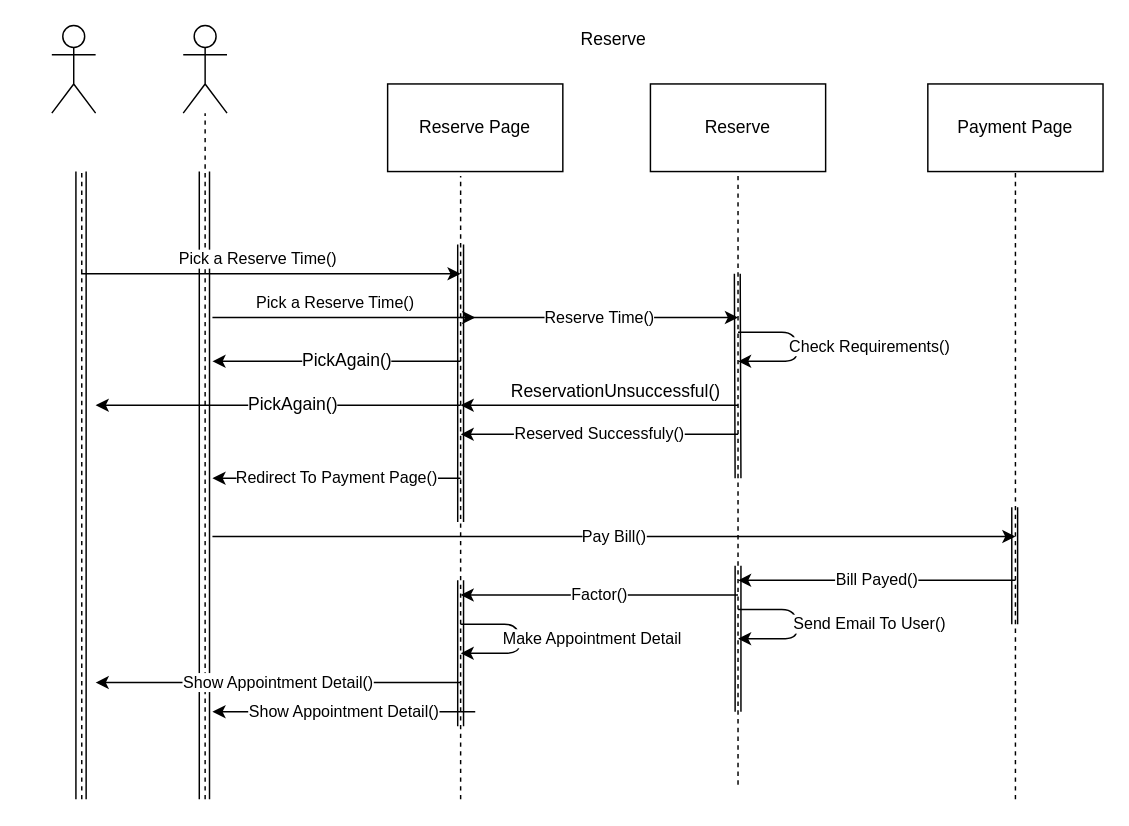
Some shapes in this 1129 by 826 pixel diagram are drawn without their labels. The shapes that lost their labels are listed below. From the top down, each one's centre as x and y in pixels, then its label:
At [73,68]: "Psychologist".
At [204,68]: "Patient".
